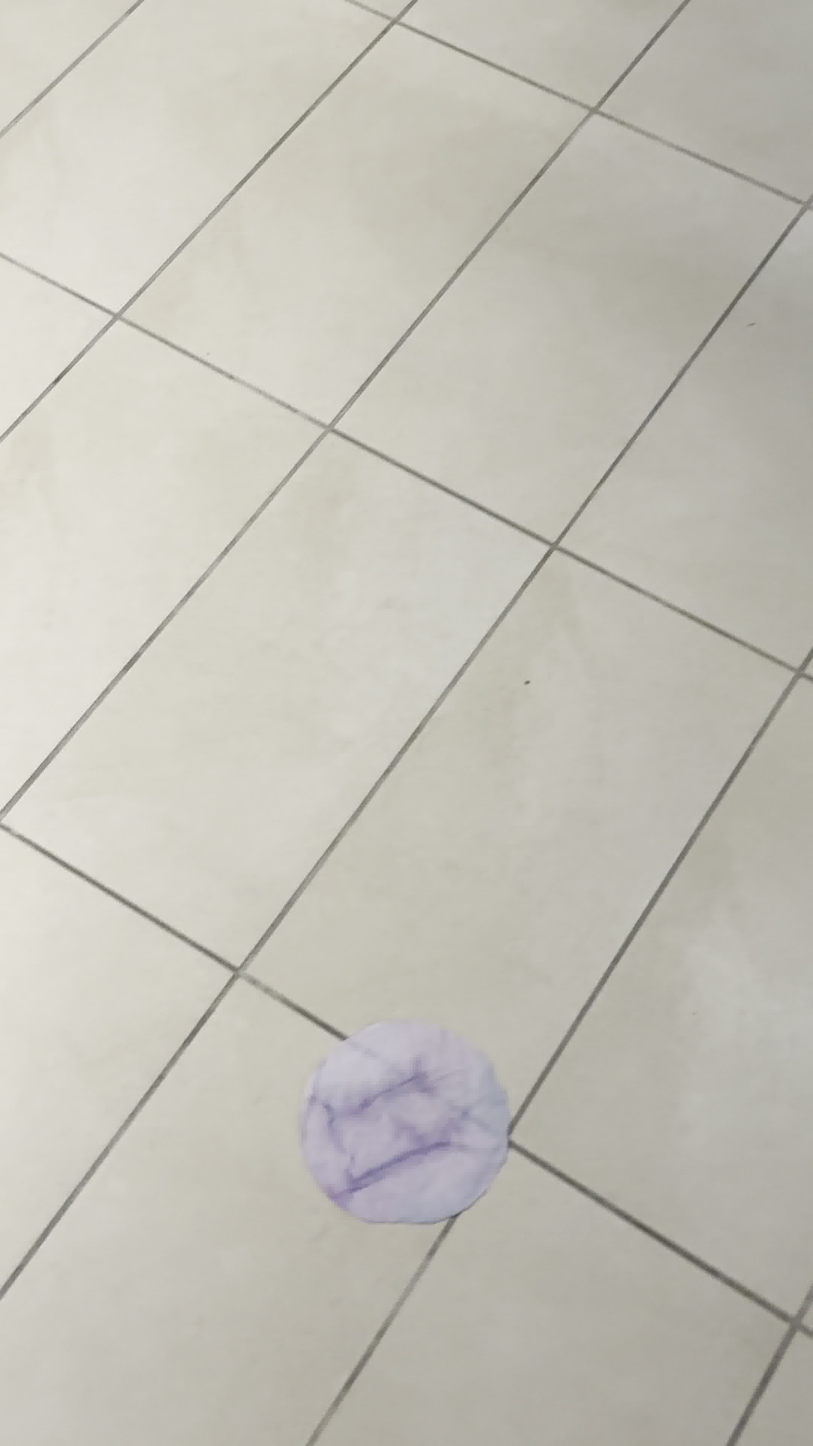Target: (304, 1021, 510, 1228)
